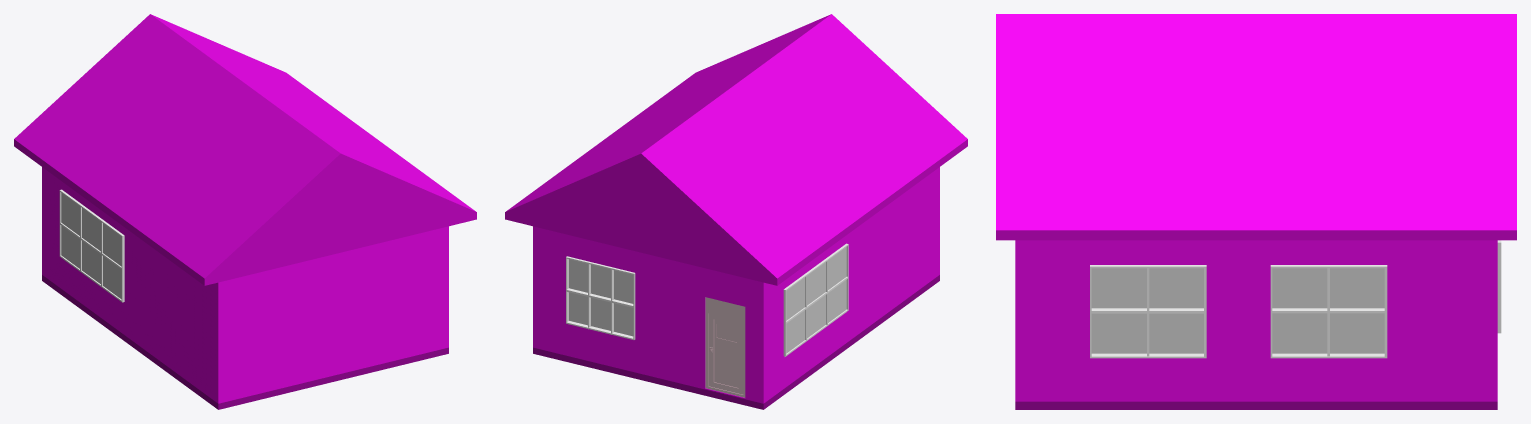
File: House_9.fbx
The picture shows the model from 3 angles, left to right: view 1: azimuth 30°, elevation 25°; view 2: azimuth 150°, elevation 25°; view 3: azimuth 270°, elevation 25°; orthographic projection. The views are drawn at different scales.
Visible parts, largest first — view 1: House_9_Body, House_9_Window.003; view 2: House_9_Body, House_9_Window, Hoouse_9_Door, House_9_Window.003; view 3: House_9_Body, House_9_Window.001, House_9_Window.002.
Boxes of the visible parts, box(x1,y1,x2,y2) form: House_9_Body: box(14, 14, 476, 409); House_9_Window.003: box(61, 193, 121, 301); House_9_Body: box(505, 14, 967, 409); House_9_Window: box(566, 259, 633, 336); Hoouse_9_Door: box(705, 297, 745, 397); House_9_Window.003: box(784, 247, 846, 356); House_9_Body: box(996, 14, 1516, 409); House_9_Window.001: box(1272, 268, 1384, 356); House_9_Window.002: box(1091, 268, 1203, 356).
Bounding box in the file's own units: 691 × 566 × 837.
